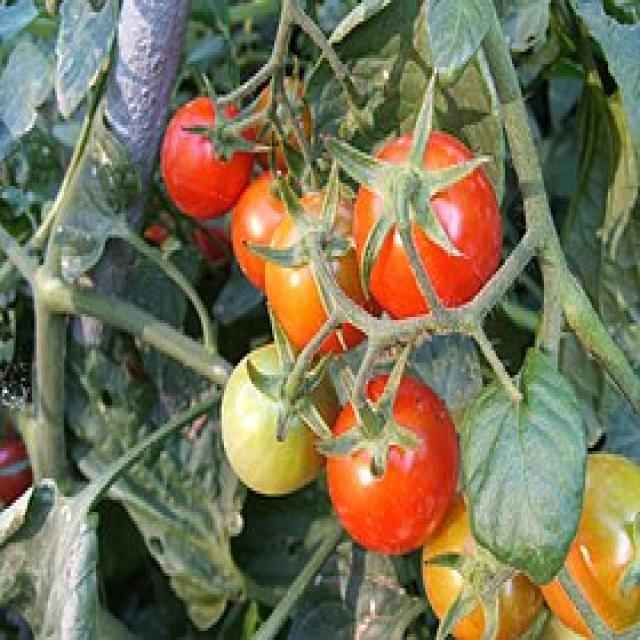kirmizi: (322, 124, 504, 322), (158, 102, 250, 214)
yesil: (202, 316, 314, 492)
